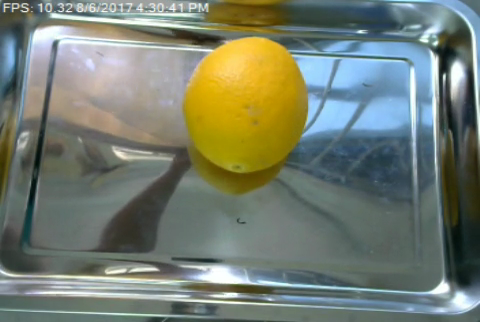Orange: (182, 35, 307, 171)
